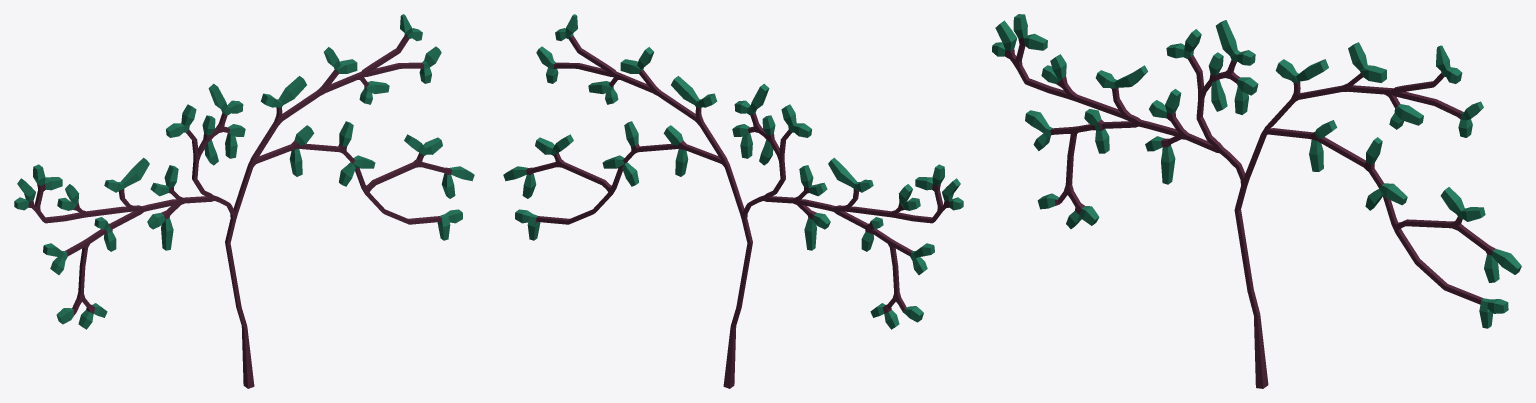
File: ivy_002_grp.fbx
The picture shows the model from 3 angles, left to right: view 1: azimuth 30°, elevation 25°; view 2: azimuth 150°, elevation 25°; view 3: azimuth 330°, elevation 25°; orthographic projection. The views are drawn at different scales.
Visible parts, largest first — view 1: ivy_002_grp; view 2: ivy_002_grp; view 3: ivy_002_grp.
Part boxes in pixels (x1=…): ivy_002_grp: x1=14, y1=14, x2=474, y2=388; ivy_002_grp: x1=503, y1=14, x2=963, y2=388; ivy_002_grp: x1=992, y1=14, x2=1521, y2=388.
Size of the model in its own units: 1003 by 700 by 24.97.
